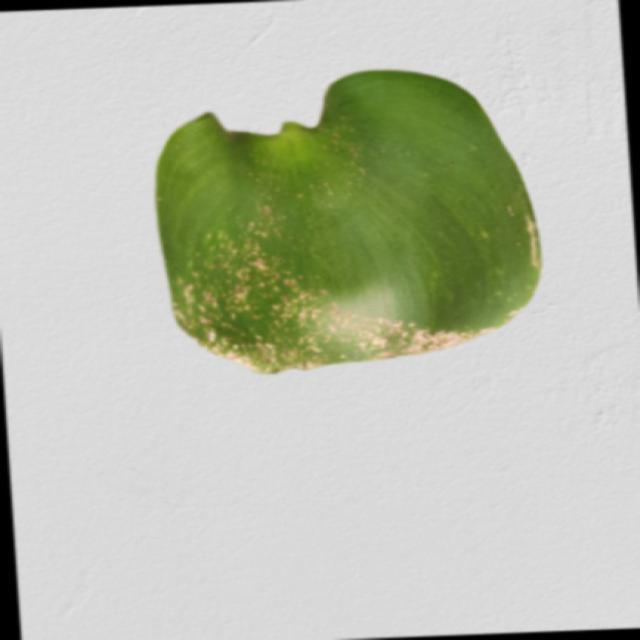daun berpenyakit bercak: (157, 71, 540, 374)
